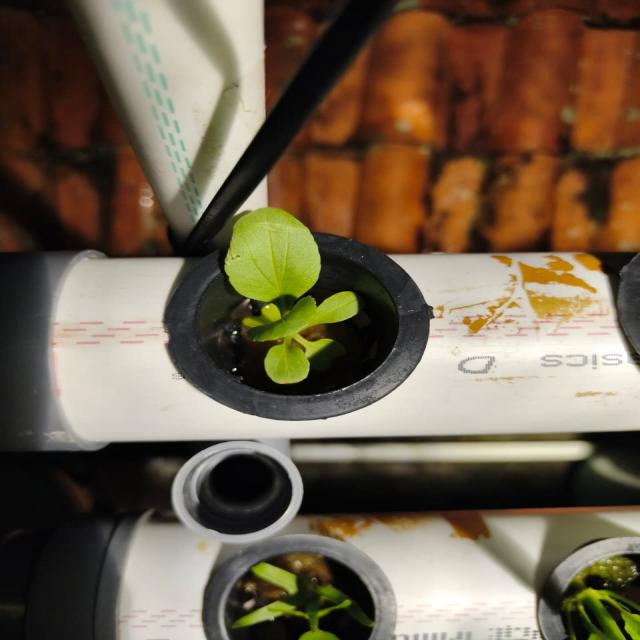daun-pakcoy: (225, 208, 321, 302), (243, 296, 316, 341), (265, 340, 309, 384), (309, 291, 360, 328), (293, 334, 345, 370), (232, 300, 281, 327), (317, 339, 333, 351)
